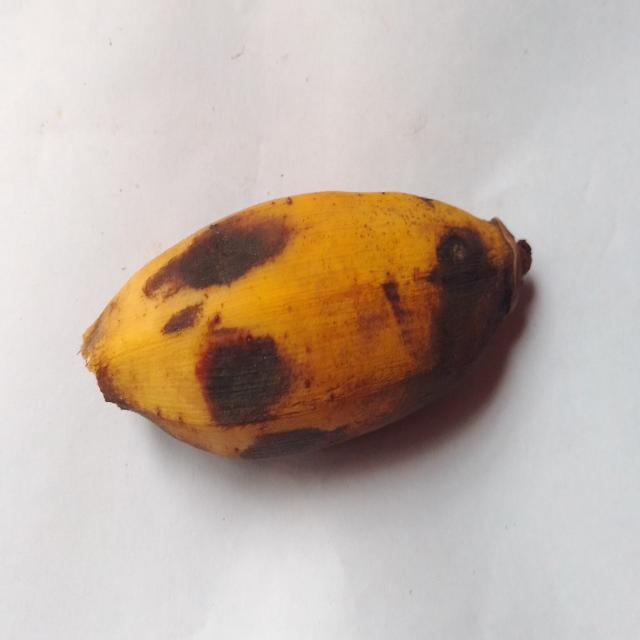banana: (82, 192, 530, 458)
